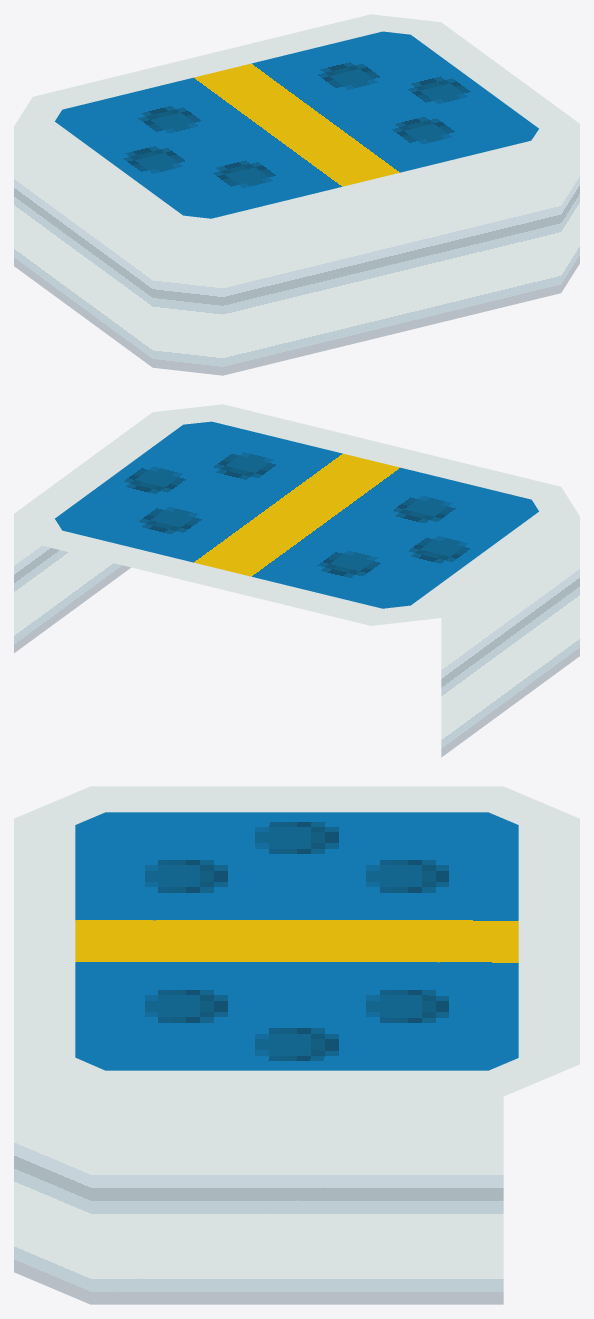
The picture shows the model from 3 angles, top to bottom: view 1: azimuth 30°, elevation 25°; view 2: azimuth 150°, elevation 25°; view 3: azimuth 270°, elevation 25°; orthographic projection. The views are drawn at different scales.
Visible parts, largest first — view 1: 00_polygon0; view 2: 00_polygon0; view 3: 00_polygon0.
Boxes of the visible parts, left/top/right/bottom form: 00_polygon0: left=14, top=14, right=579, bottom=375; 00_polygon0: left=14, top=404, right=579, bottom=757; 00_polygon0: left=14, top=786, right=579, bottom=1304.
Bounding box in the file's own units: 0.75 × 0.2344 × 0.5781.
1 material, 1 textured.
